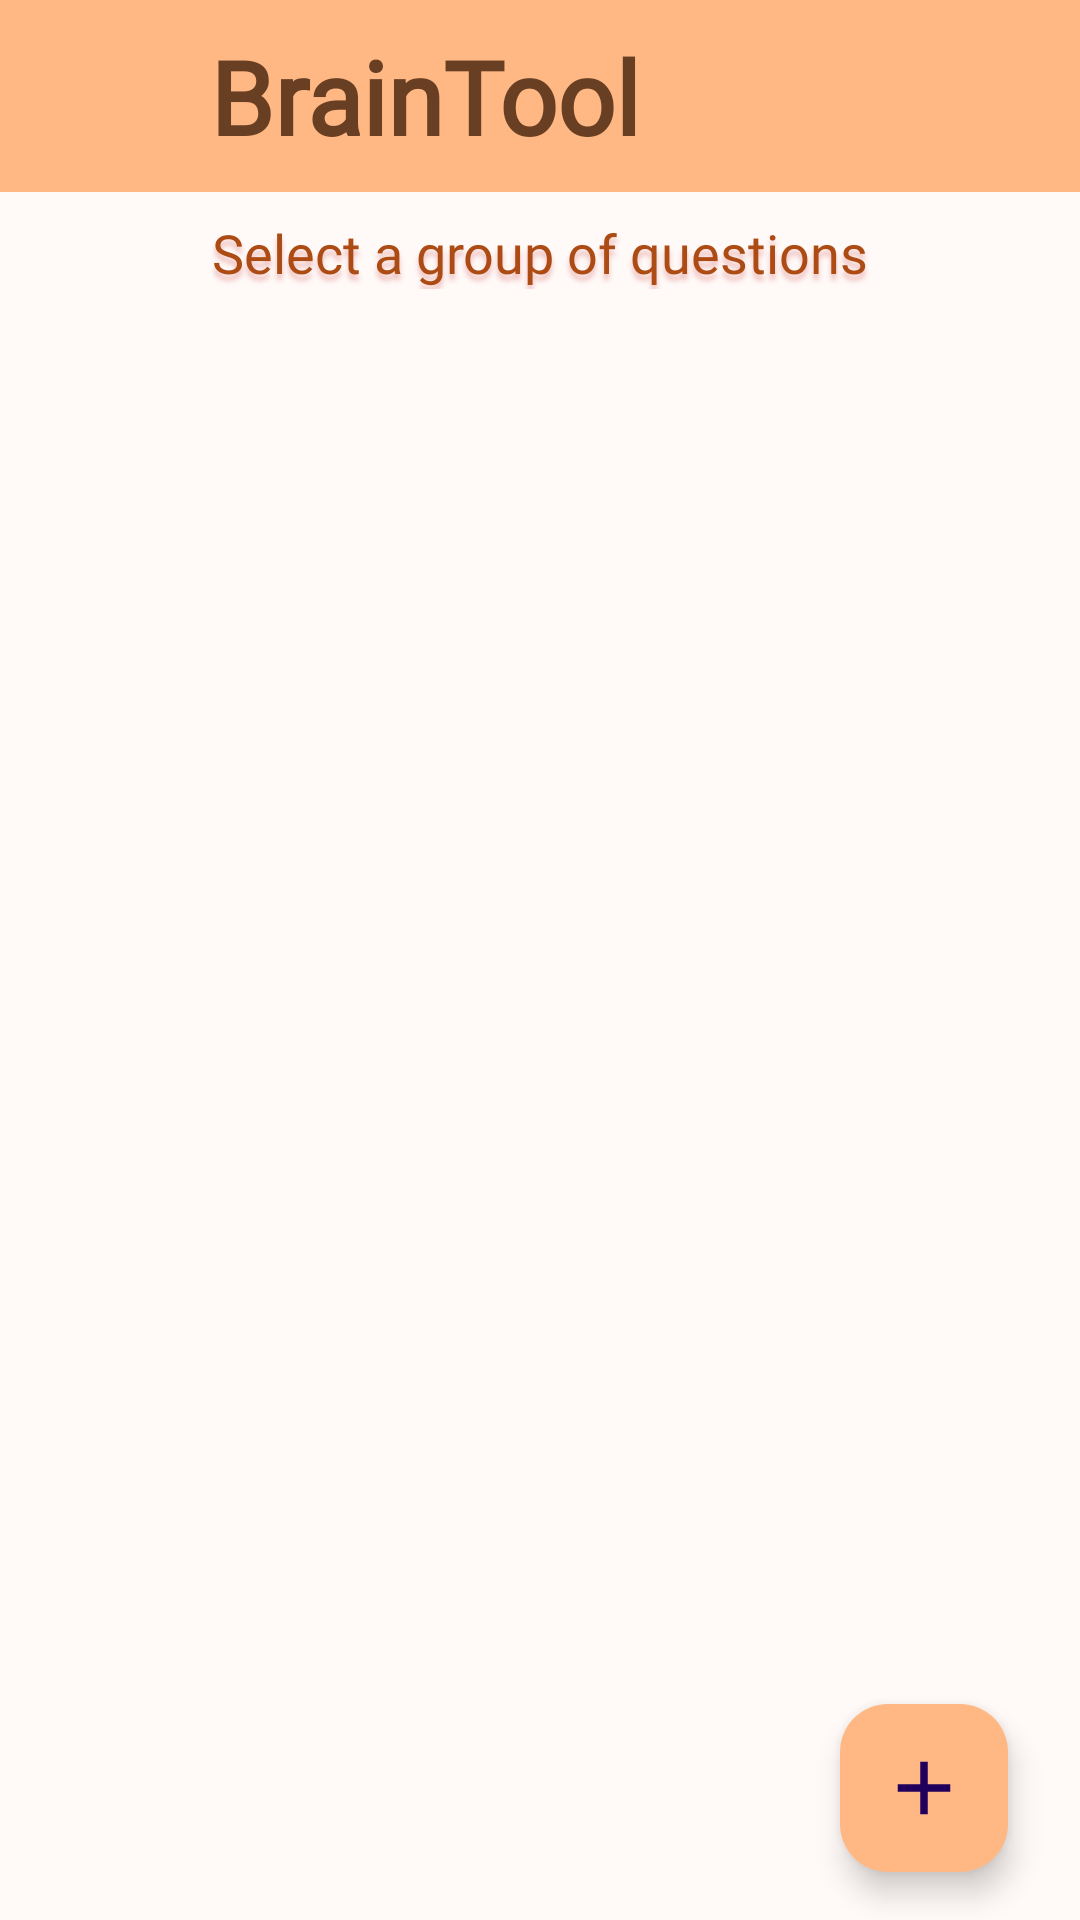

Where to tap for icons on this 1080px×1920px app screen, as (x=x, y=y):
add: (x=924, y=1788)
